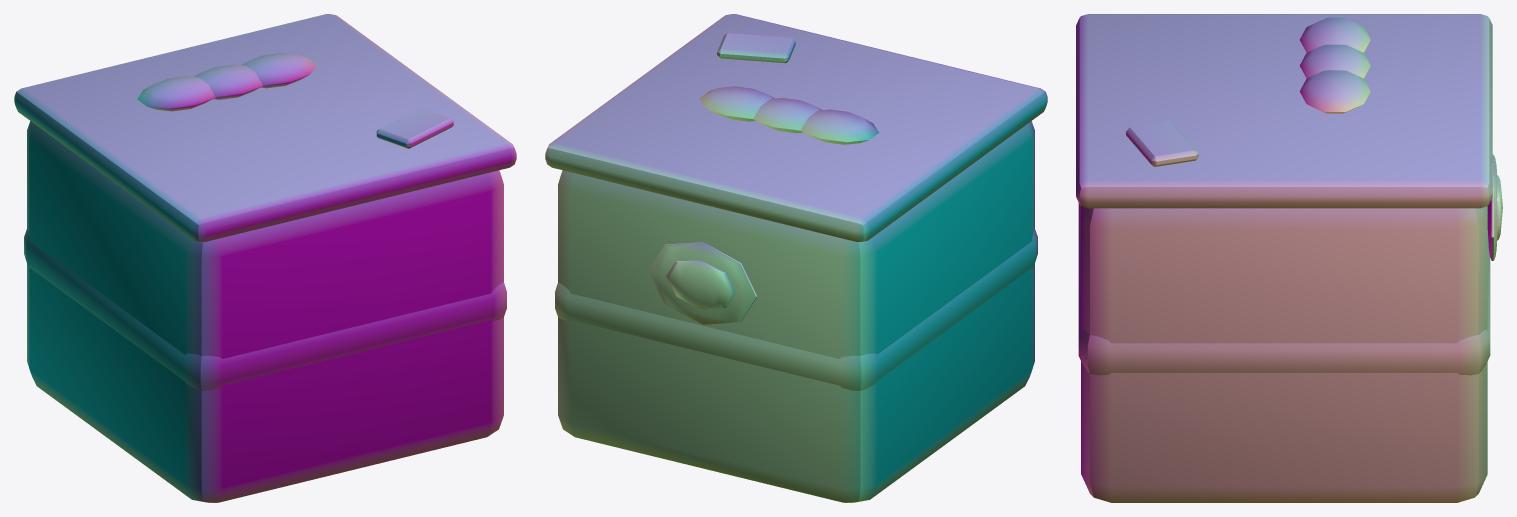
Rendered from prop_crate.glb.
The picture shows the model from 3 angles, left to right: view 1: azimuth 30°, elevation 25°; view 2: azimuth 150°, elevation 25°; view 3: azimuth 270°, elevation 25°; orthographic projection. The views are drawn at different scales.
Visible parts, largest first — view 1: prop_crate_mesh; view 2: prop_crate_mesh; view 3: prop_crate_mesh.
Boxes of the visible parts, x1,y1,x2,y2 form: prop_crate_mesh: [14, 14, 516, 502]; prop_crate_mesh: [545, 14, 1047, 502]; prop_crate_mesh: [1076, 14, 1502, 502].
Size of the model in its own units: 0.41 by 0.397 by 0.42.
